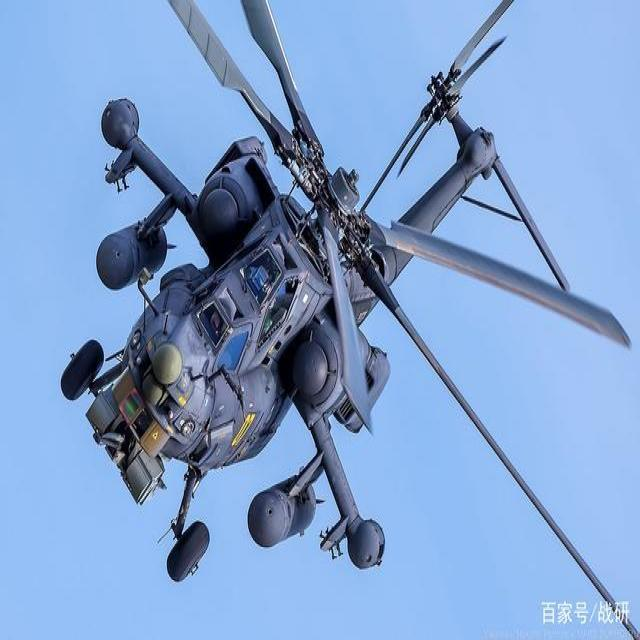MIL_HELO: (10, 0, 630, 603)
